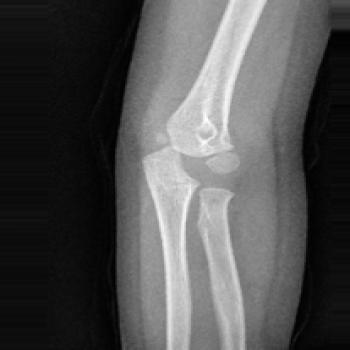Fracture: (201, 148, 253, 198)
